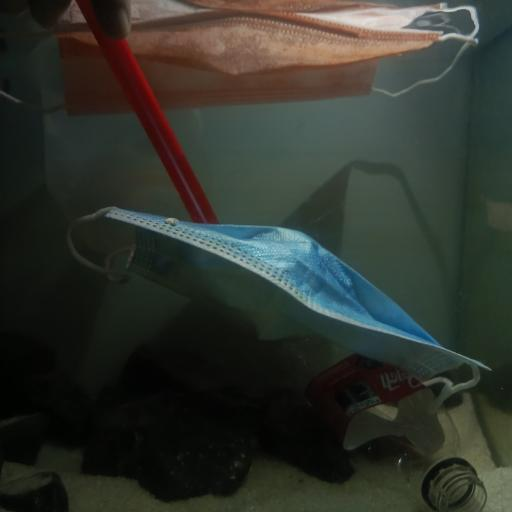mask: (66, 202, 496, 412), (7, 4, 483, 110)
plastic_bottle: (275, 331, 490, 512)
plastic_straw: (82, 1, 218, 221)
